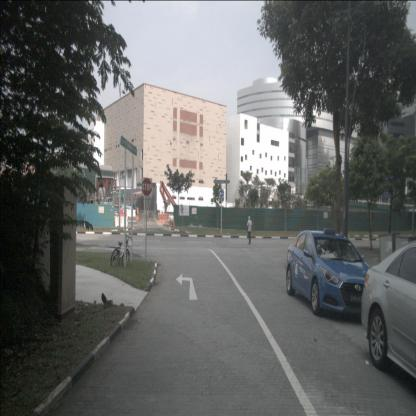barrier: (114, 216, 128, 228), (126, 208, 136, 218), (158, 214, 169, 223), (119, 209, 127, 218)
cone: (170, 220, 172, 227), (173, 220, 175, 227)
